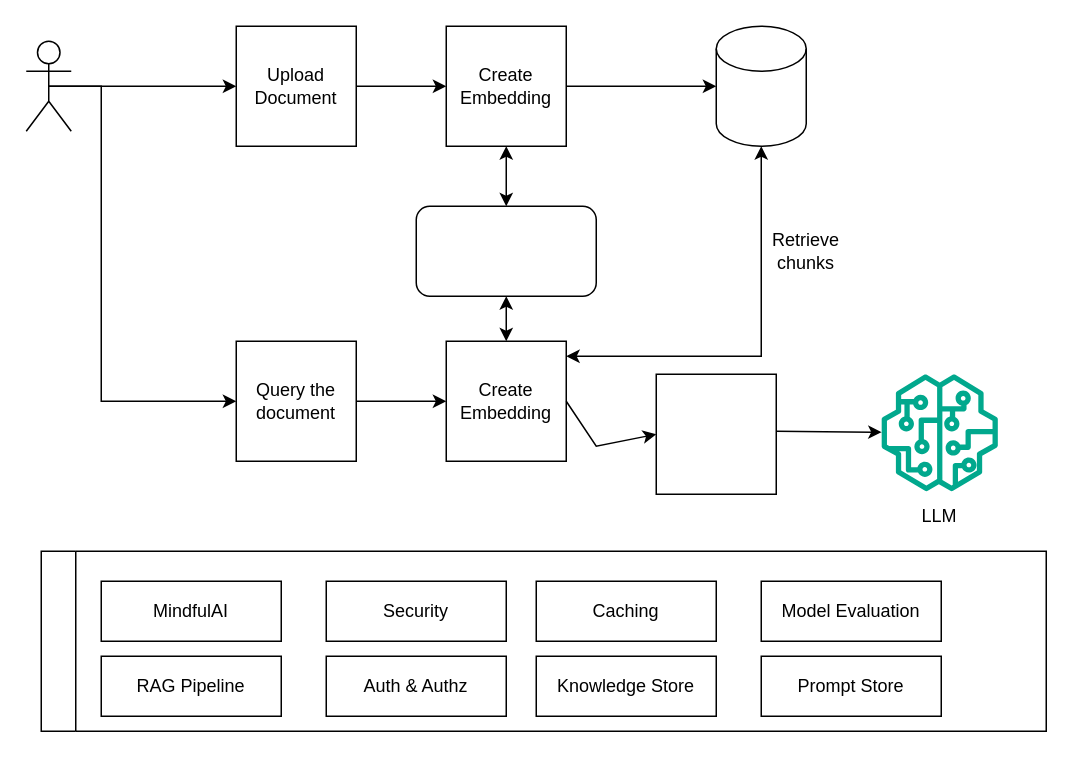
Image size: 1073x758. Some labels were removed from this diagram. The shapes that lost their labels are listed below. From the top down, each one's box as (x1, y1, x2, y2) in pixels, then its label:
(25, 40, 71, 131): Actor
(715, 25, 806, 146): Vector DB
(415, 205, 596, 296): Embedding Model
(655, 373, 776, 494): Inference using prompt and chunks
(40, 550, 1046, 731): Components
